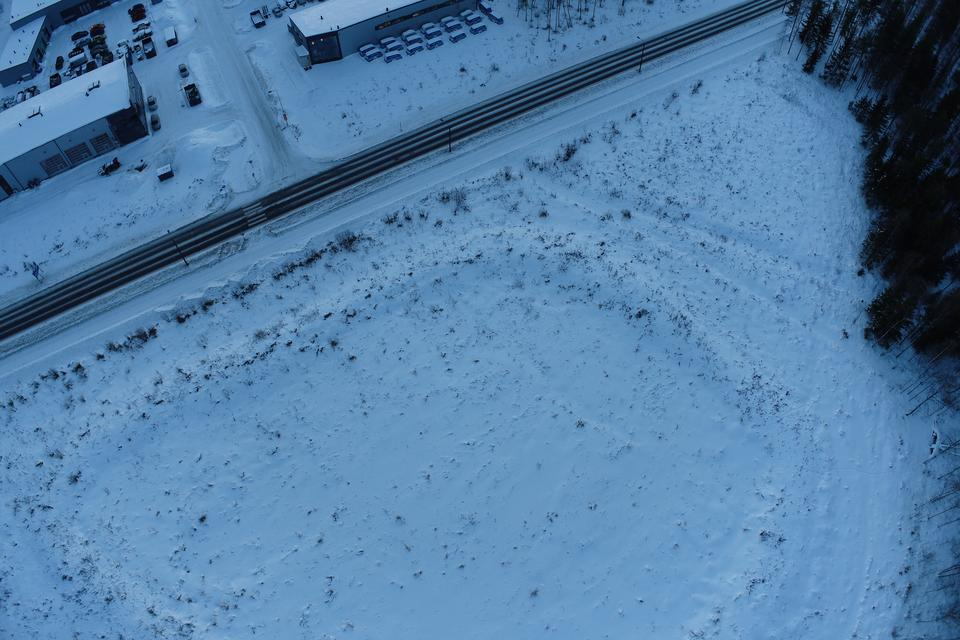intersection: (206, 127, 378, 243)
